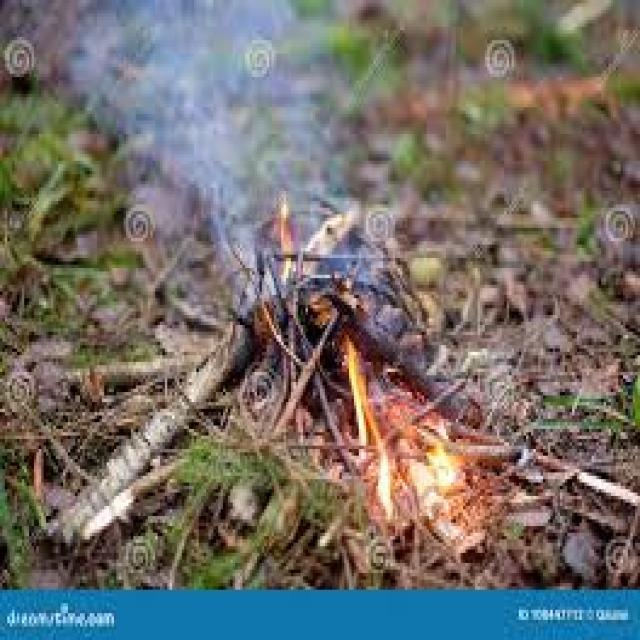Fire: (328, 360, 468, 532)
Smoke: (81, 0, 332, 221)
